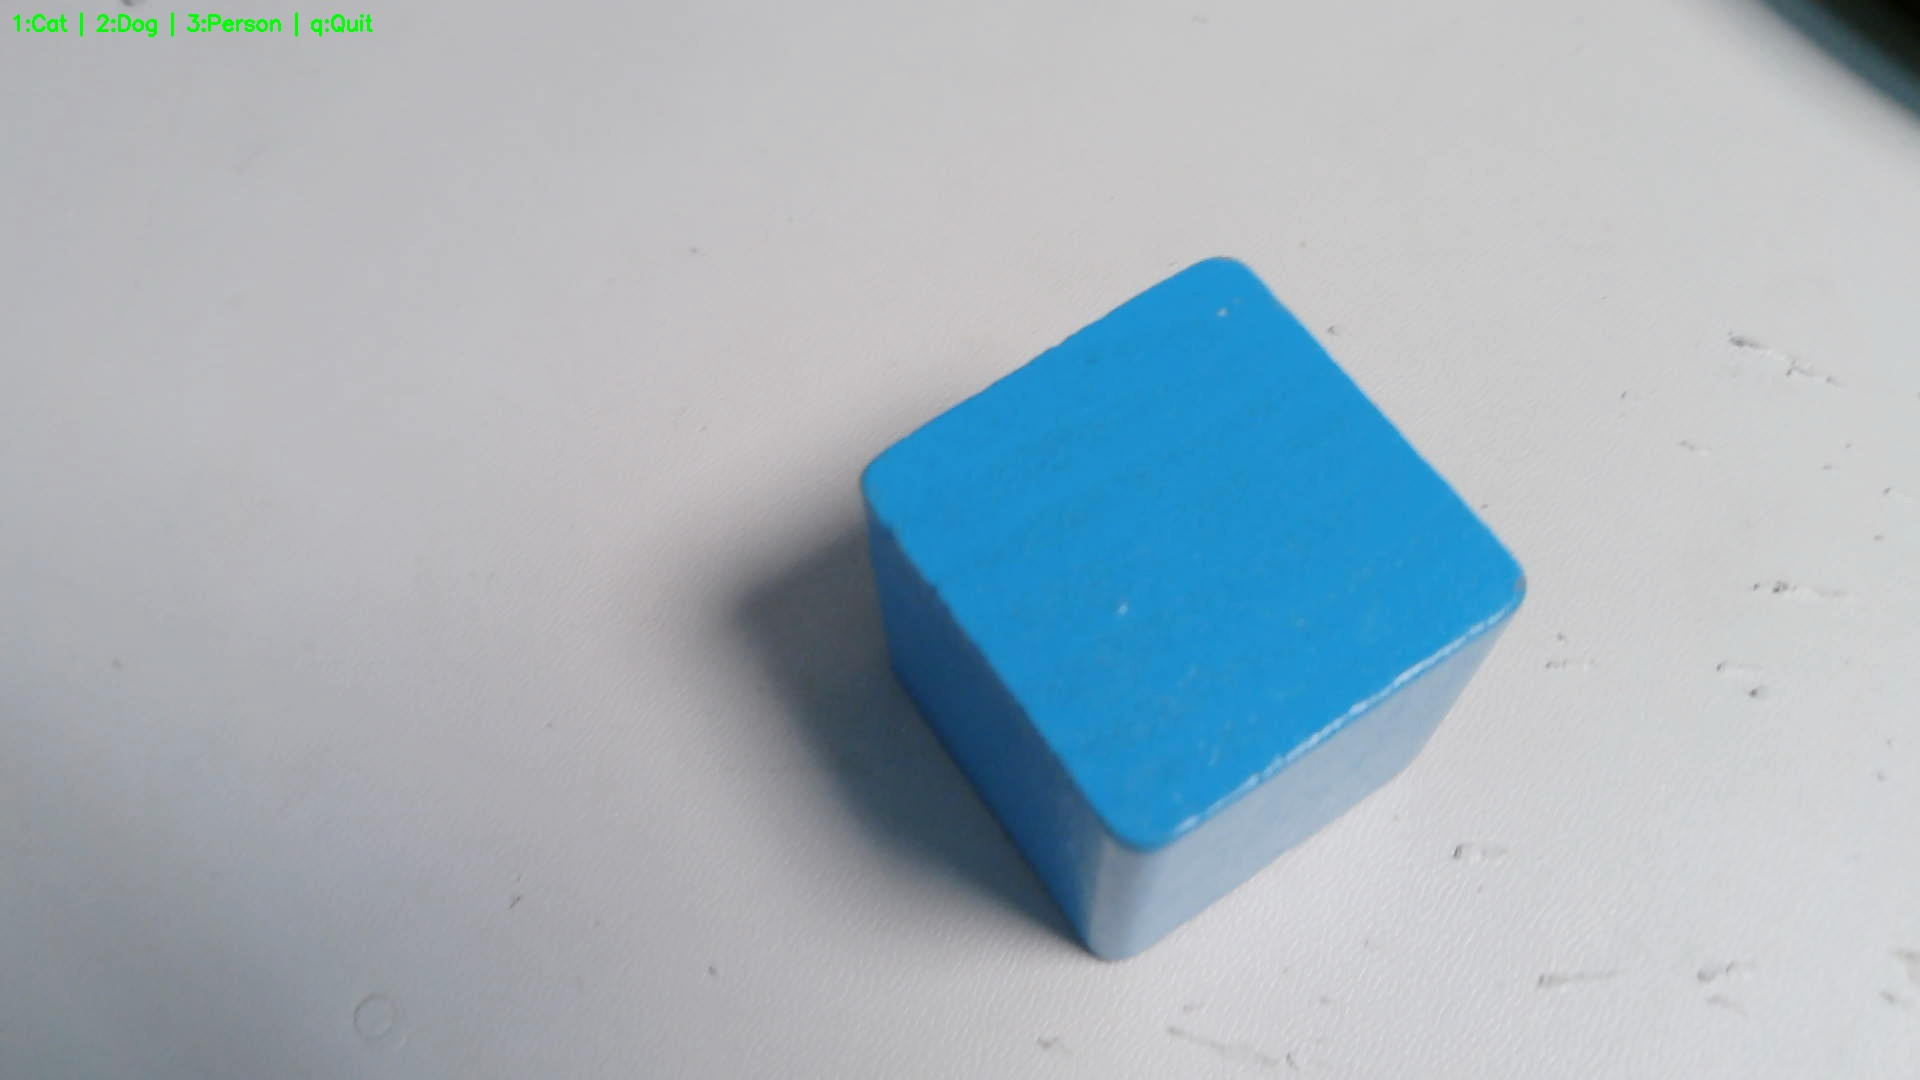blue: (869, 257, 1526, 967)
